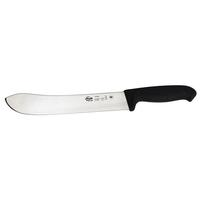knife: (3, 84, 189, 115)
